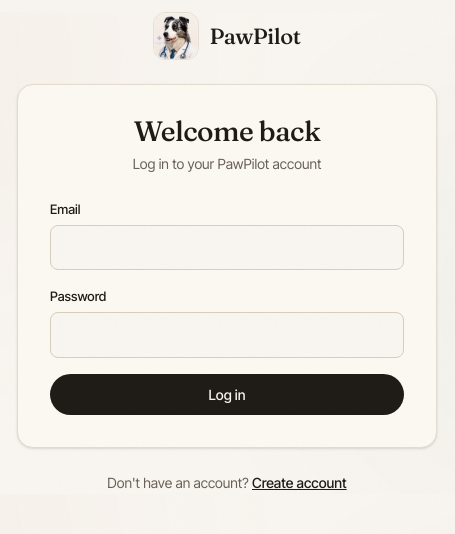
Test: LoginPage › shows 'Enter a valid email address' for malformed input
In the field labelled "Email": (227, 248) [50, 225, 404, 270], type "not-an-email"
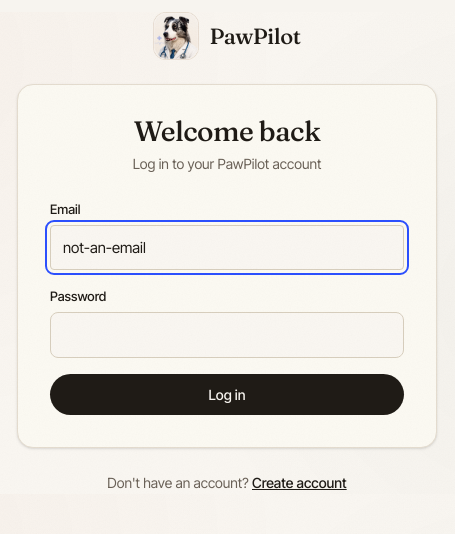
In the password field labelled "Password": (227, 335) [50, 312, 404, 358], type "anything"
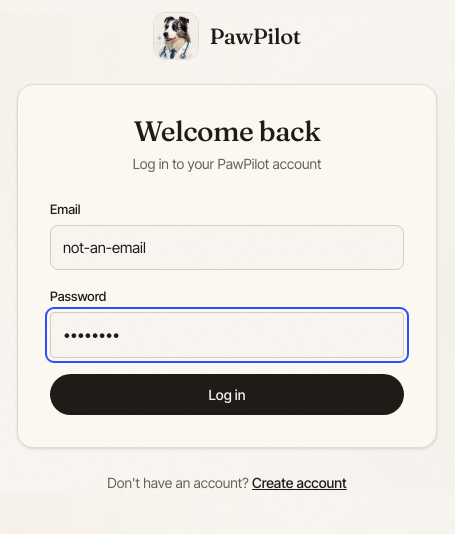
Click the button "Log in": (227, 395) [50, 374, 404, 415]
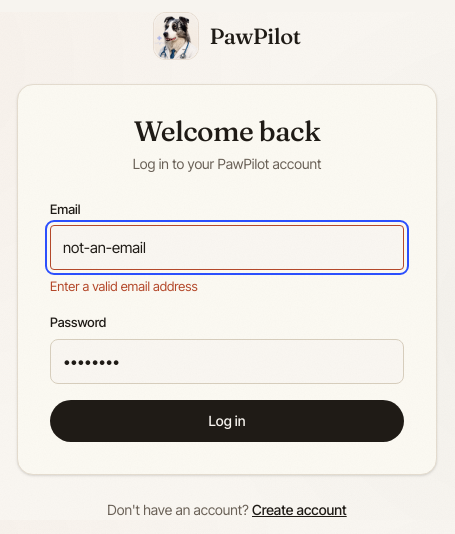
Now the text "Enter a valid email address" is shown, box [50, 278, 198, 294]
